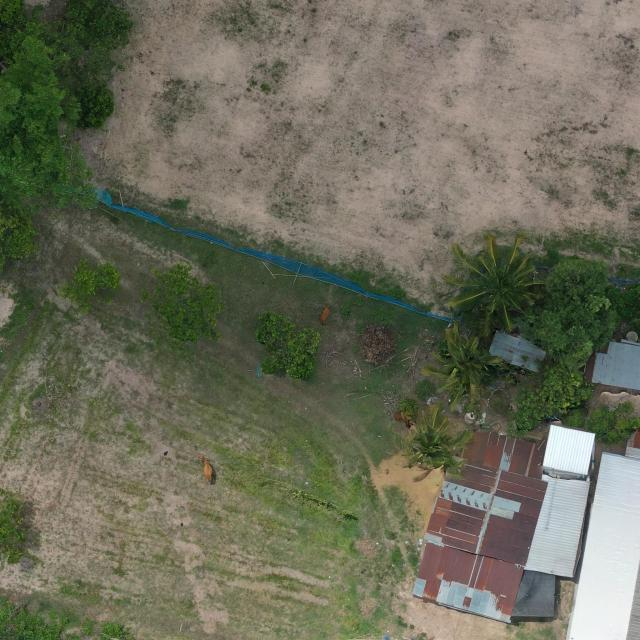Tree: (446, 229, 543, 338), (536, 255, 621, 372), (140, 260, 226, 347), (420, 329, 504, 410), (514, 367, 596, 437), (251, 309, 324, 385), (388, 412, 470, 479), (56, 261, 123, 315)
